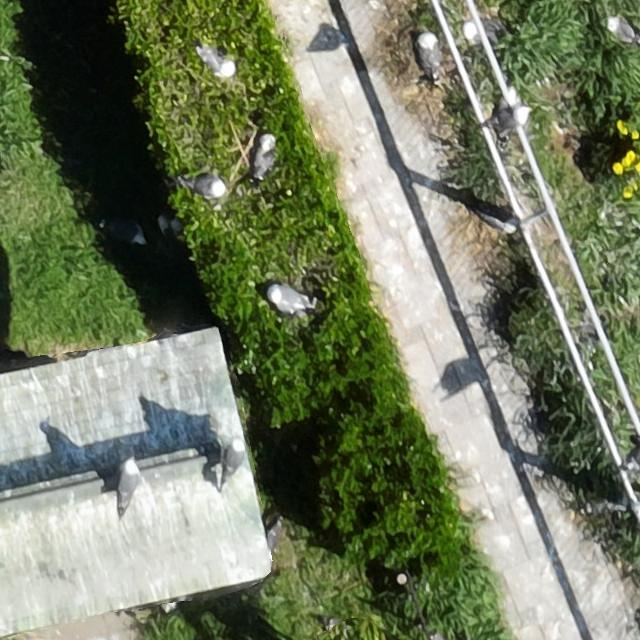umineko: (220, 435, 245, 491), (202, 50, 237, 76), (268, 287, 304, 312), (188, 177, 226, 198), (106, 220, 142, 242), (119, 461, 137, 504), (254, 139, 273, 177), (609, 18, 636, 43), (505, 108, 529, 131), (420, 36, 438, 64), (584, 500, 613, 514), (464, 20, 480, 42), (628, 444, 638, 467)
